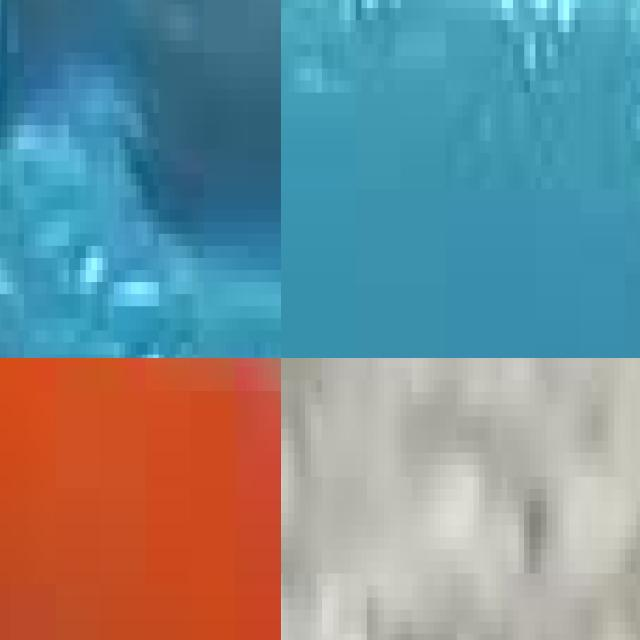fish: (0, 0, 281, 358), (0, 358, 281, 640)
